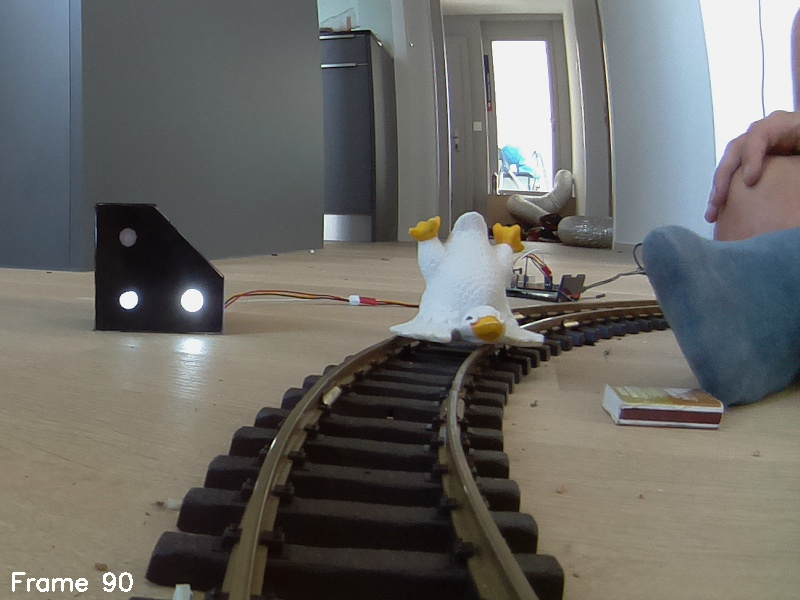Ente: (389, 204, 552, 361)
Halt: (92, 201, 222, 338)
